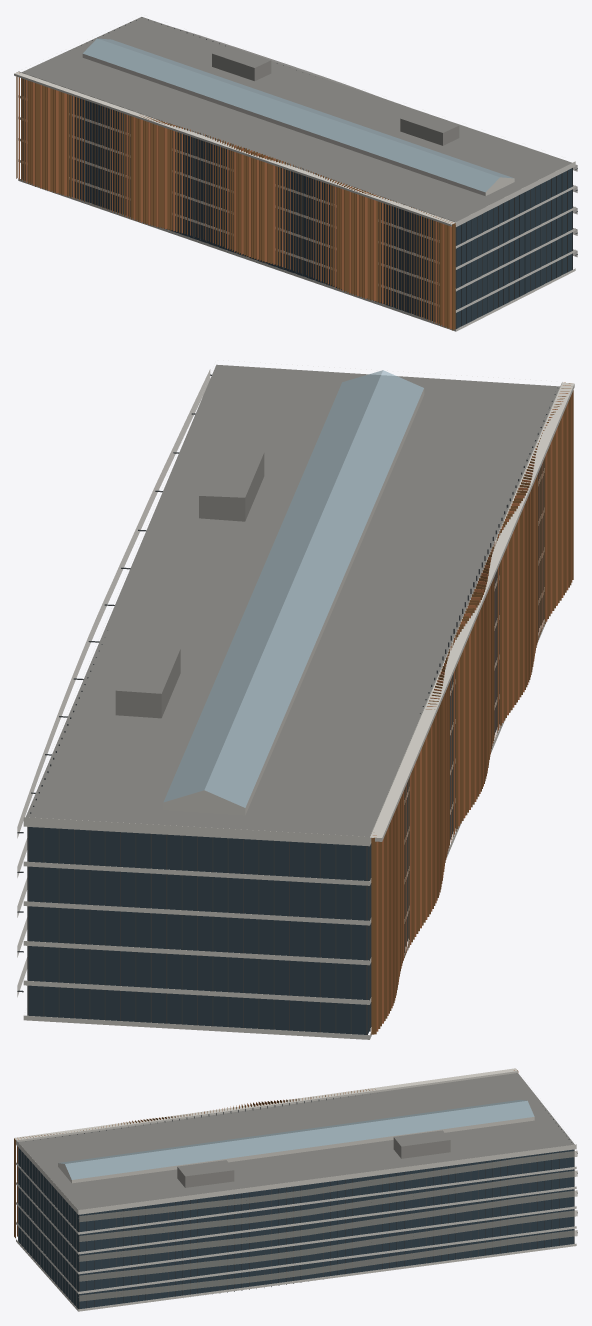
File: holland_park_school.glb
3 views of the same model, one above another, from view 1: azimuth 30°, elevation 25°; view 2: azimuth 150°, elevation 25°; view 3: azimuth 270°, elevation 25° (orthographic). The views are drawn at different scales.
Bounding box in the file's own units: 67.41 × 25.22 × 108.
